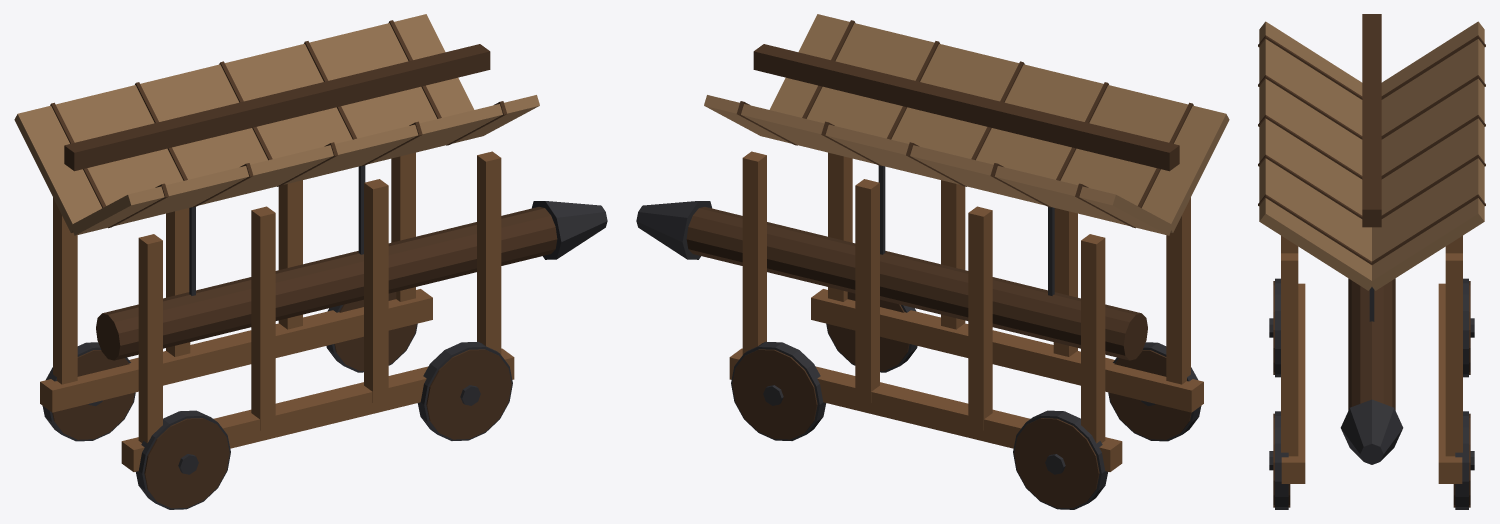
The model's file is taran.glb.
3 views of the same model, side by side, from view 1: azimuth 30°, elevation 25°; view 2: azimuth 150°, elevation 25°; view 3: azimuth 270°, elevation 25° (orthographic). The views are drawn at different scales.
Visible parts, largest first — view 1: Body, Log; view 2: Body, Log; view 3: Body, Log.
Boxes of the visible parts, box(x1,y1,x2,y2) form: Body: box(14, 14, 539, 509); Log: box(96, 201, 607, 360); Body: box(704, 14, 1229, 509); Log: box(636, 201, 1147, 360); Body: box(1258, 14, 1485, 509); Log: box(1340, 278, 1403, 464).
Size of the model in its own units: 7.55 by 4.6 by 2.91.
